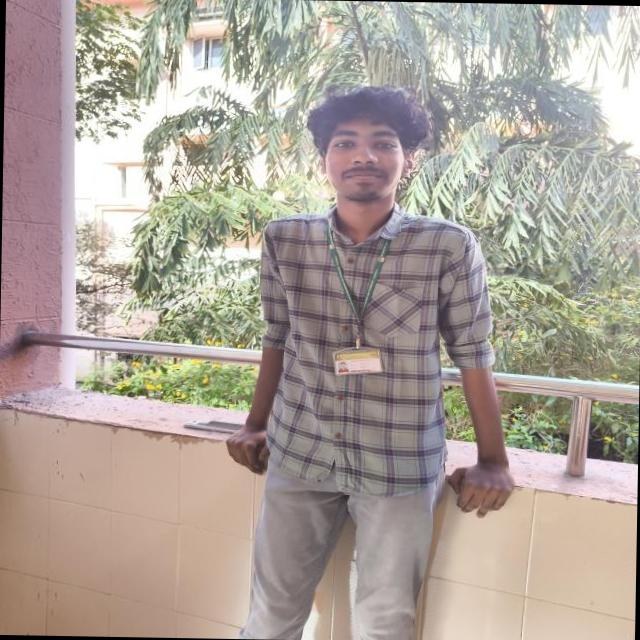id_card: (318, 217, 394, 380)
